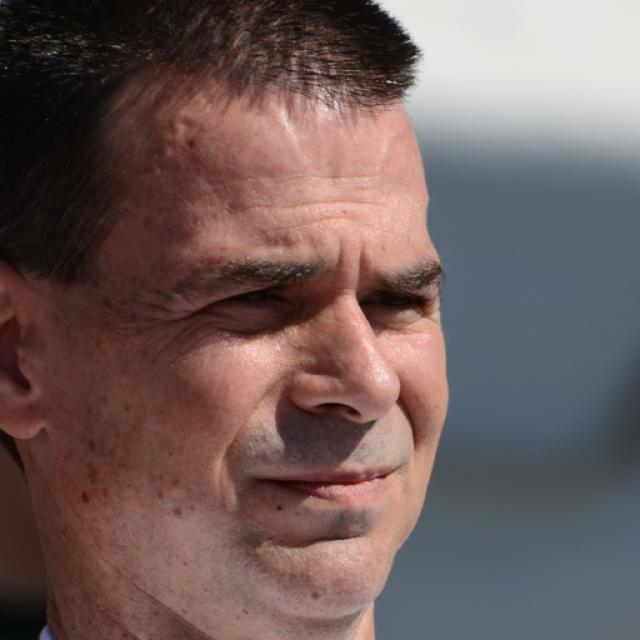disgust: (46, 49, 452, 620)
